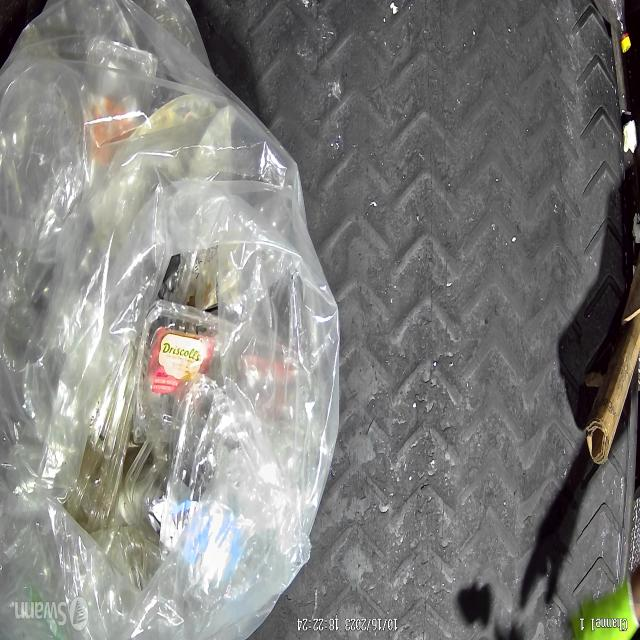plastic_bottle: (594, 0, 630, 54)
